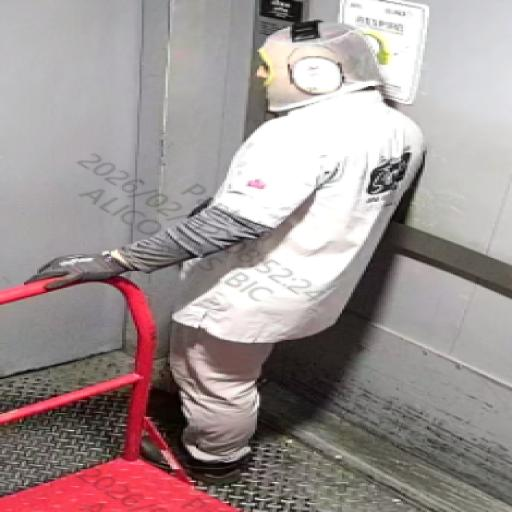person: (72, 17, 486, 508)
